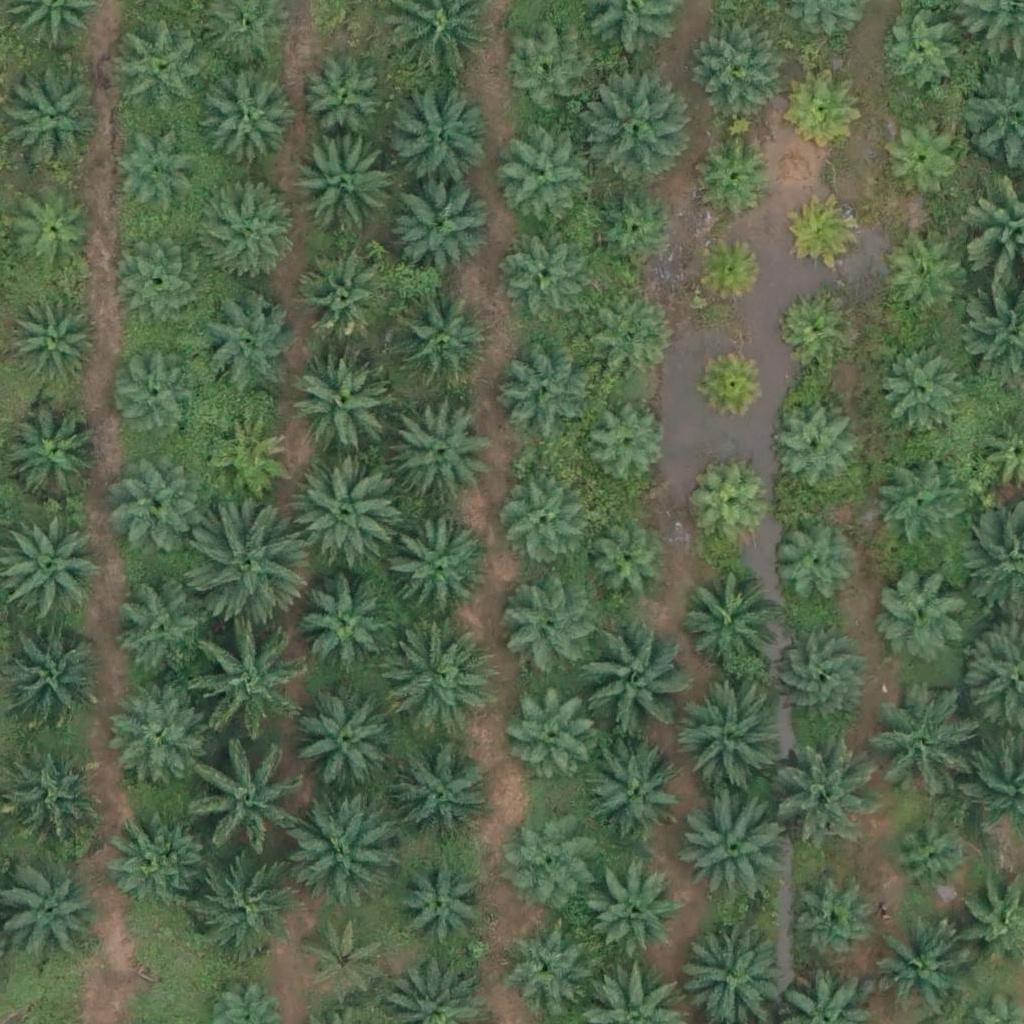Kelapa_Sawit: (671, 788, 784, 902), (380, 518, 493, 631), (381, 627, 494, 740), (291, 684, 404, 797), (579, 69, 692, 182), (190, 510, 303, 623), (674, 684, 786, 798), (768, 729, 880, 842), (572, 623, 684, 736), (292, 462, 404, 575), (289, 800, 401, 913), (192, 635, 304, 748), (192, 753, 304, 866), (187, 851, 299, 964), (865, 696, 965, 797), (678, 572, 778, 673), (581, 740, 681, 841), (502, 577, 602, 678), (391, 397, 491, 498), (298, 577, 398, 678), (115, 687, 215, 788), (102, 806, 202, 907), (387, 89, 487, 190), (392, 172, 492, 273), (292, 345, 392, 446), (391, 289, 491, 390), (498, 341, 598, 442), (294, 137, 394, 238), (198, 174, 298, 275), (3, 65, 103, 166), (872, 562, 972, 662), (770, 630, 870, 730), (119, 580, 219, 680), (3, 404, 103, 504), (199, 292, 299, 392), (115, 20, 215, 120), (392, 745, 491, 846), (107, 348, 195, 437), (886, 813, 974, 901), (767, 404, 855, 492), (593, 873, 681, 961), (493, 476, 581, 564), (589, 184, 677, 272), (589, 302, 677, 390), (875, 112, 963, 200), (880, 235, 968, 323), (499, 140, 587, 228), (500, 232, 588, 320), (302, 48, 390, 136), (110, 133, 198, 221), (114, 237, 202, 325), (16, 300, 104, 388), (872, 461, 959, 550), (304, 916, 391, 1005), (769, 520, 856, 608), (791, 882, 878, 970), (585, 400, 672, 488), (582, 524, 669, 612), (496, 919, 583, 1007), (505, 807, 592, 895), (508, 692, 595, 780), (399, 858, 486, 946), (114, 453, 201, 541), (878, 10, 965, 98), (879, 344, 966, 432), (693, 20, 780, 108), (505, 29, 592, 117), (297, 254, 384, 342), (206, 78, 293, 166), (10, 187, 97, 275), (205, 414, 292, 502), (774, 290, 849, 366), (691, 470, 766, 546), (696, 343, 771, 419), (789, 194, 864, 270), (699, 136, 774, 211), (691, 233, 766, 308), (789, 72, 864, 147)
